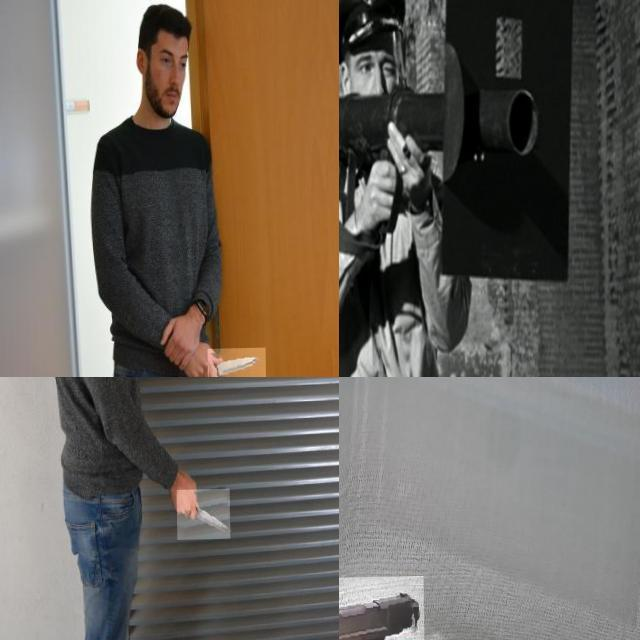-: (175, 491, 229, 542), (206, 350, 264, 377)
gun-knife-thesis - v11 Yolov5 augmented: (339, 578, 424, 640), (339, 285, 373, 377)
